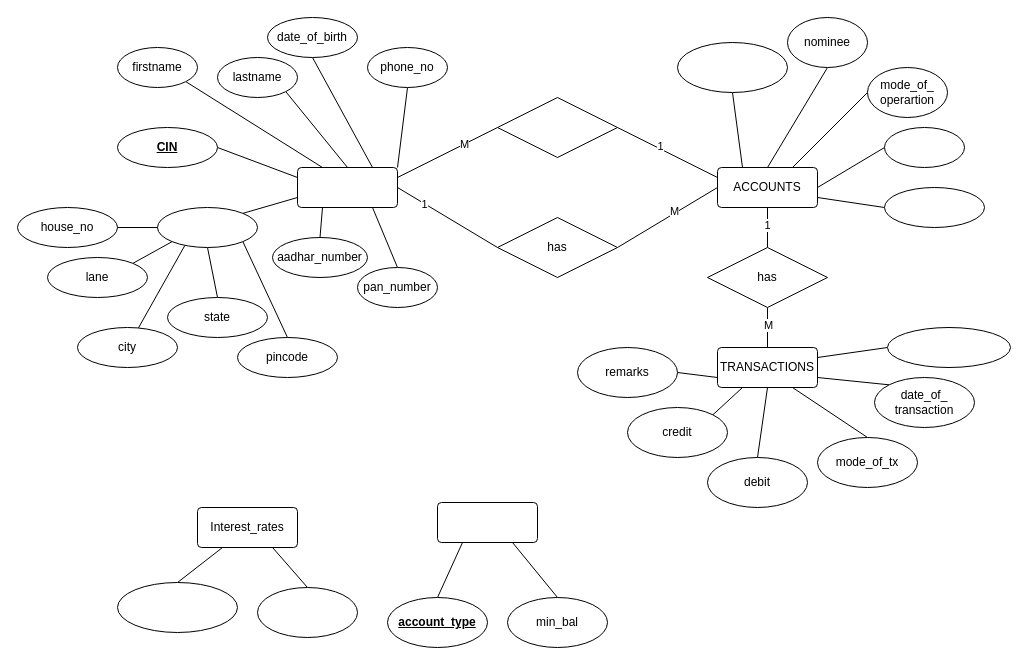
This 1028x665 diagram has some shape labels left out. Here are the shapes that lost their labels. From the top down, the centre of each, then its label:
point 732,67: has_availed_OD
point 557,127: are_operated_by
point 924,147: type
point 347,187: CUSTOMERS
point 934,207: ACCOUNT_NO
point 207,227: address
point 948,347: TRANSACTION_ID
point 487,522: Minimum_balance
point 177,607: product_category
point 307,612: interest_rate
